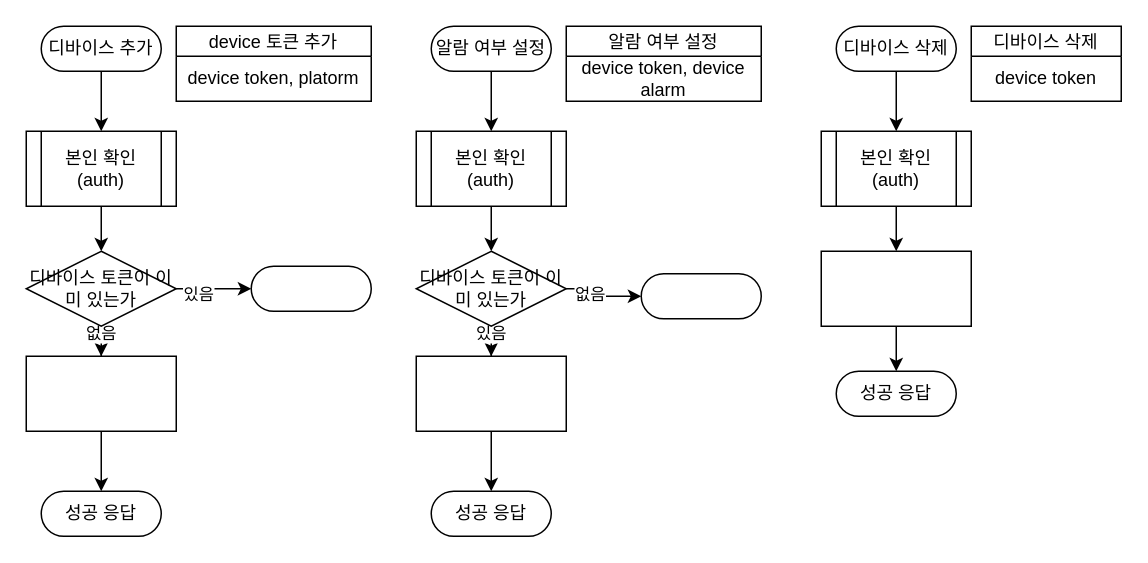
The diagram is 1148 pixels wide and 563 high, and some of its shapes have lost their labels. Here are the shapes that lost their labels. From the top down, the centre of each, then its label:
At [310,288]: "409 Conflict Exception".
At [700,295]: "404 Not Found".
At [895,288]: "device token과 일치하는 정보 삭제".
At [100,393]: "platorm, device alarm 정보 입력".
At [490,393]: "alarm정보 변경".
